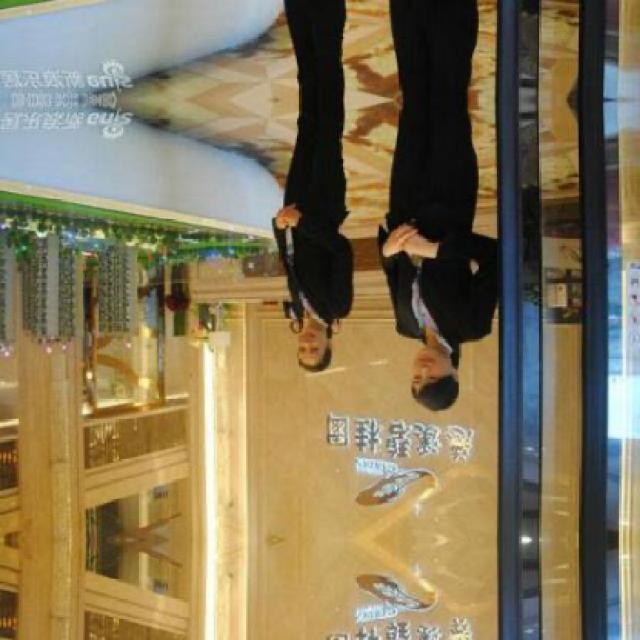sin casco: (410, 321, 474, 432), (271, 288, 347, 376)
